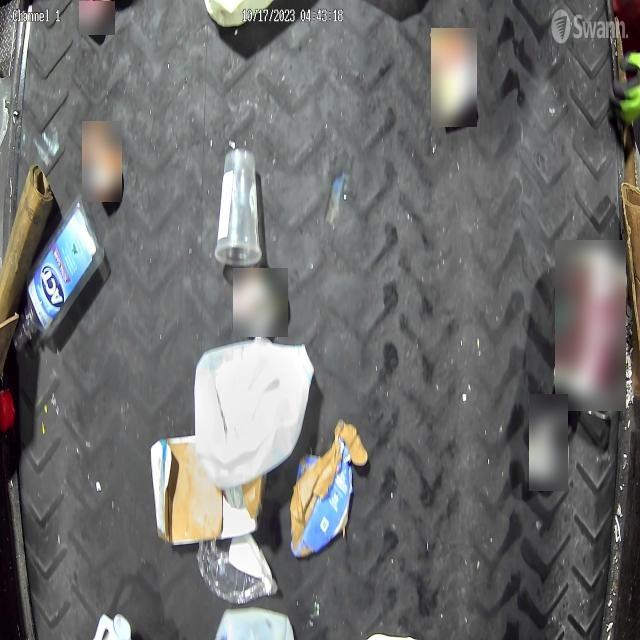milk_jug: (194, 336, 314, 489)
